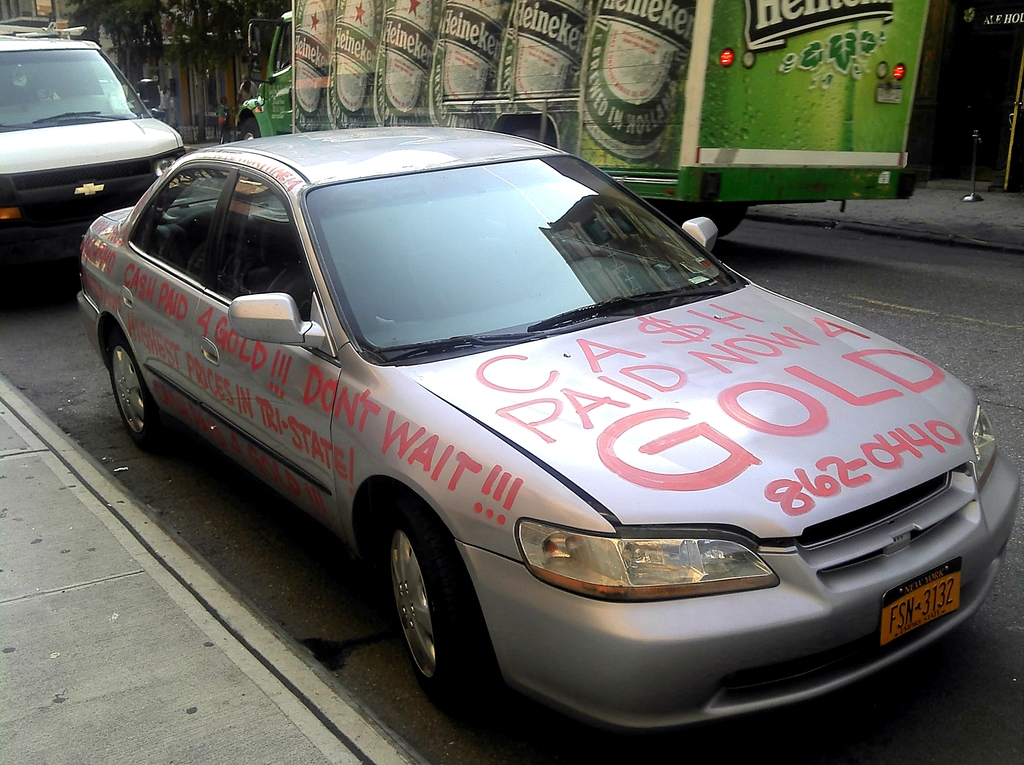Car: (74, 121, 1015, 750), (0, 37, 190, 272)
